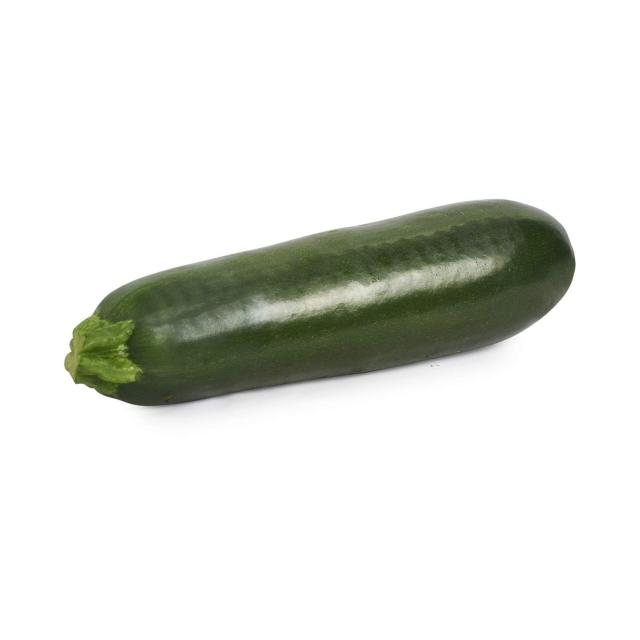Yogurt cup: (32, 171, 602, 432)
